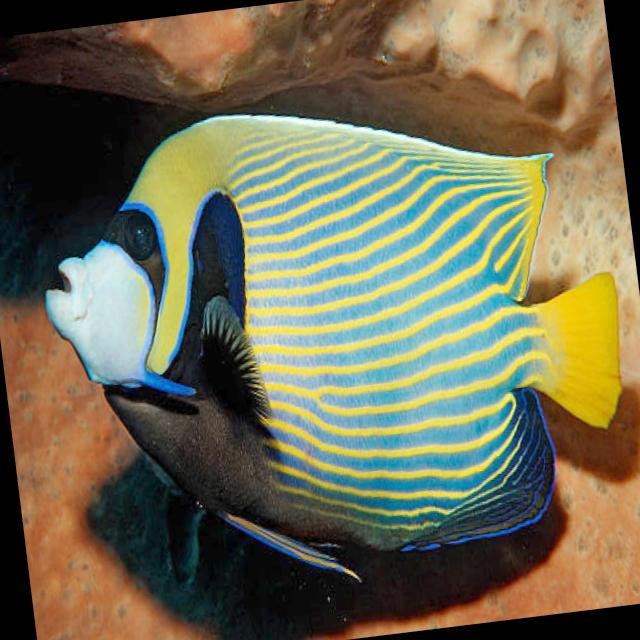AngelFish: (25, 68, 640, 608)
